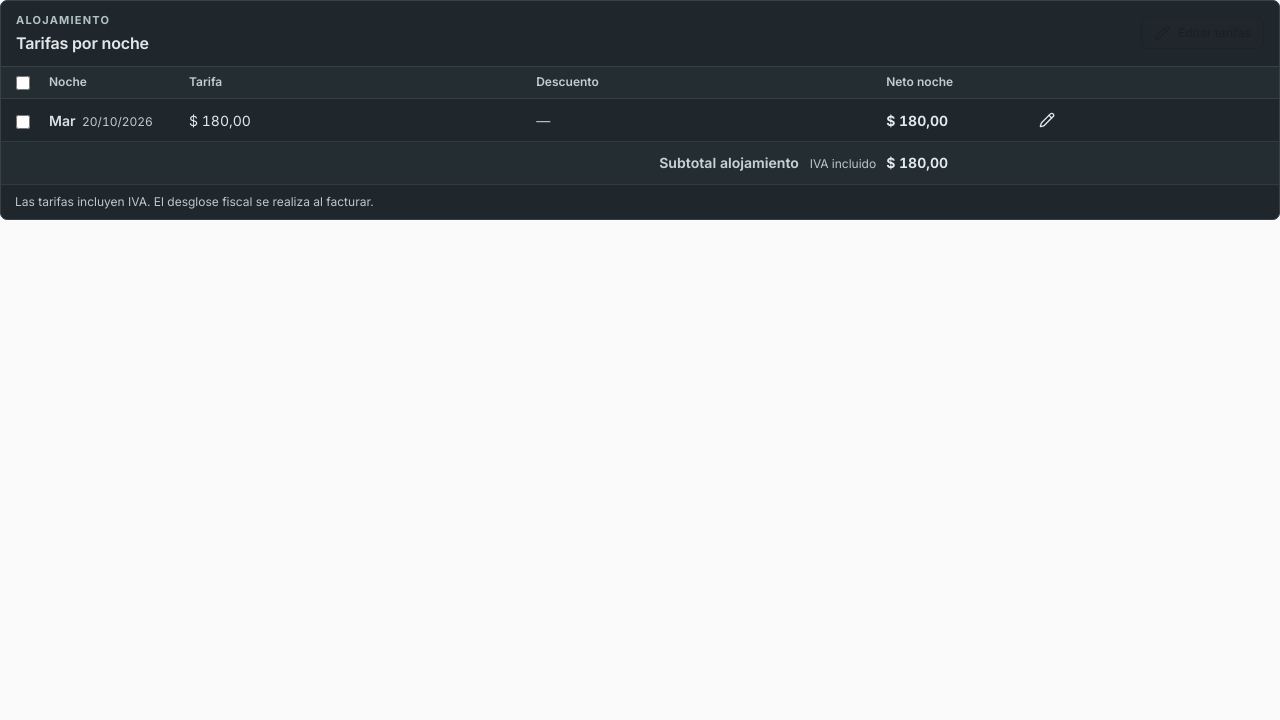
Folio con información operativa › conecta la selección de noches con el descuento real del editor
Click the checkbox named "Seleccionar noche 20/10/2026".
click(23, 122)  # box 16,115 -> 30,129
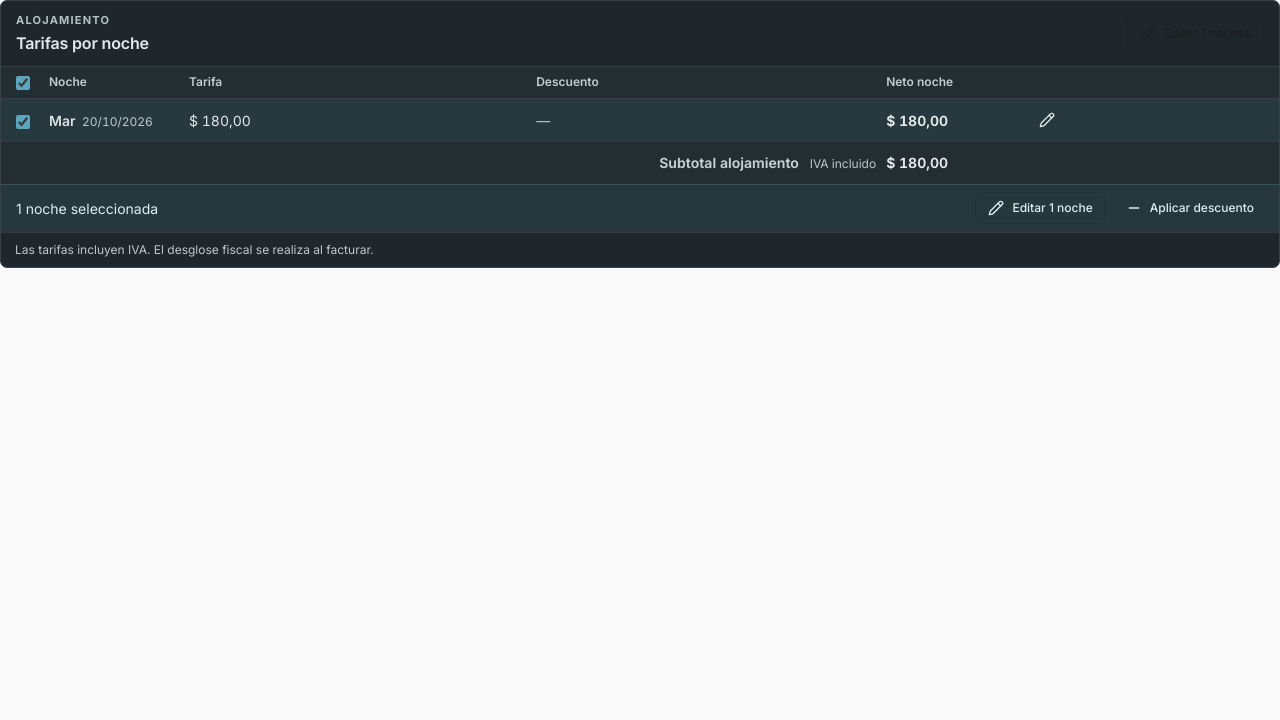
Result: the text "1 noche seleccionada" is shown at 16,198 -> 158,218
Click the button "Aplicar descuento".
click(1190, 208)  # box 1113,192 -> 1267,224
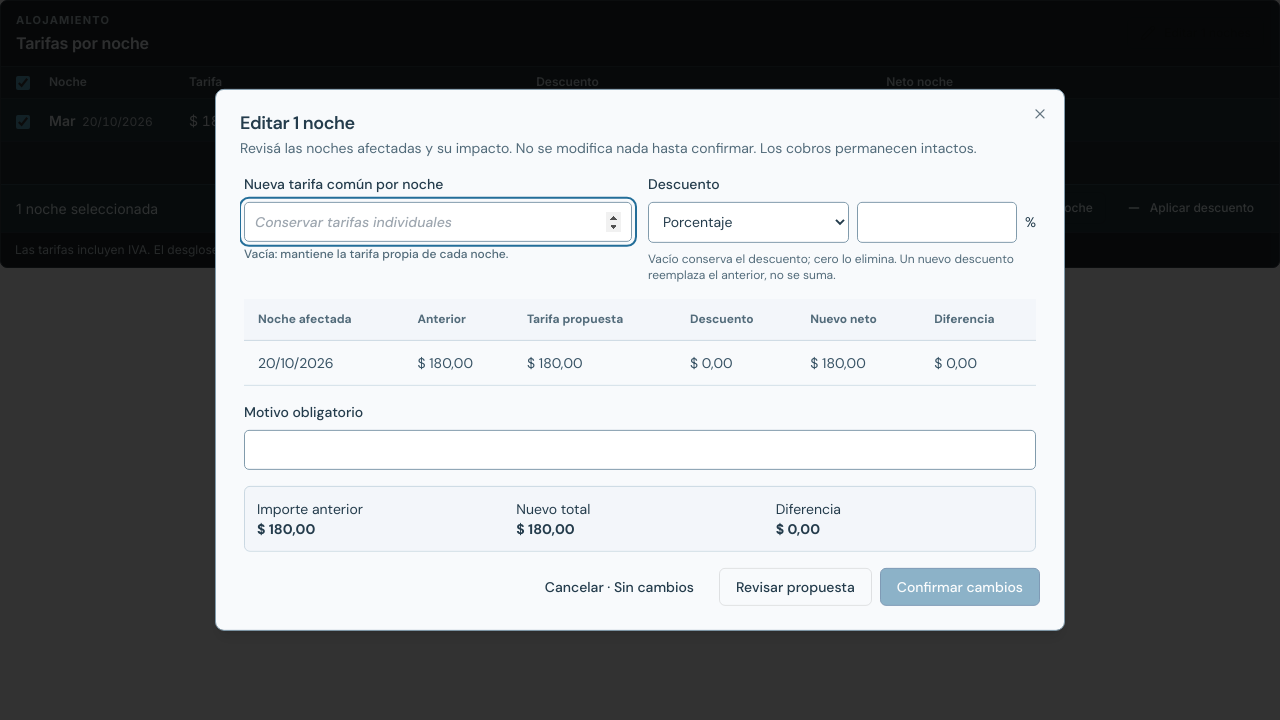
Result: the dropdown named "Tipo de descuento" shows "Porcentaje" at 648,202 -> 849,242
Result: the button "Confirmar cambios" is disabled at 880,568 -> 1040,606
